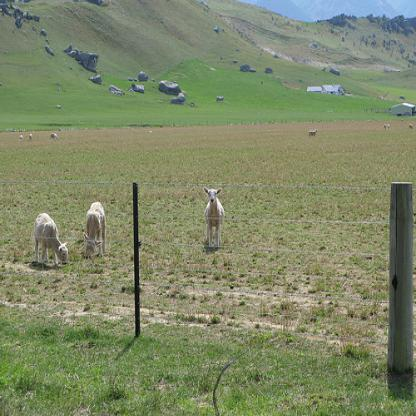sheep: (32, 211, 68, 267), (201, 186, 226, 246), (82, 202, 108, 256)
